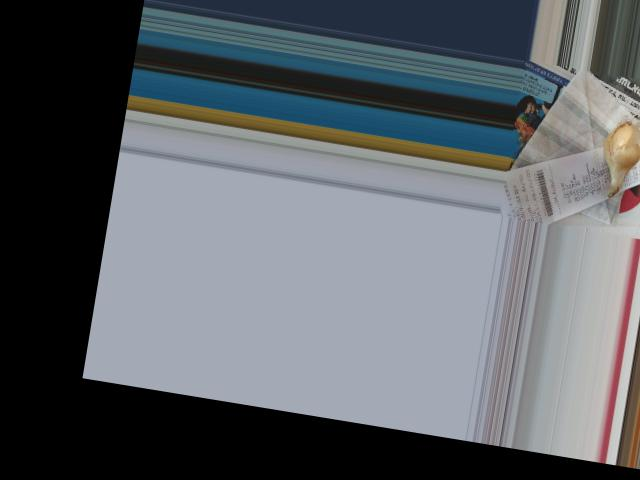onion: (599, 118, 640, 178)
